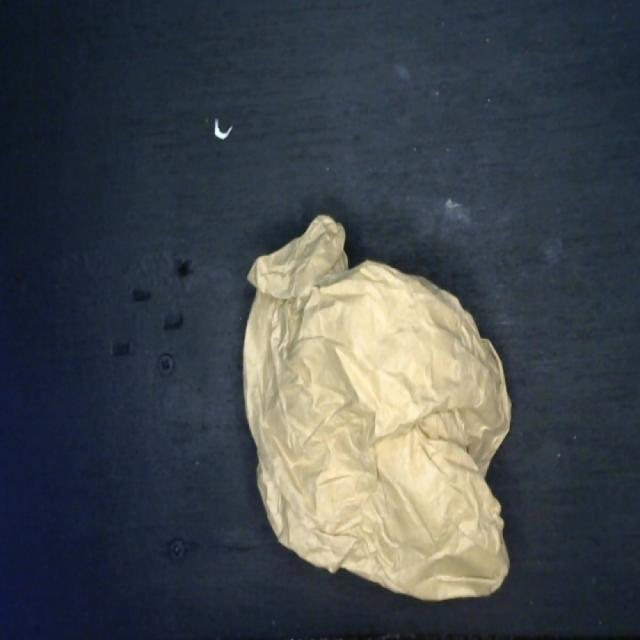biodegradable: (236, 209, 512, 606)
